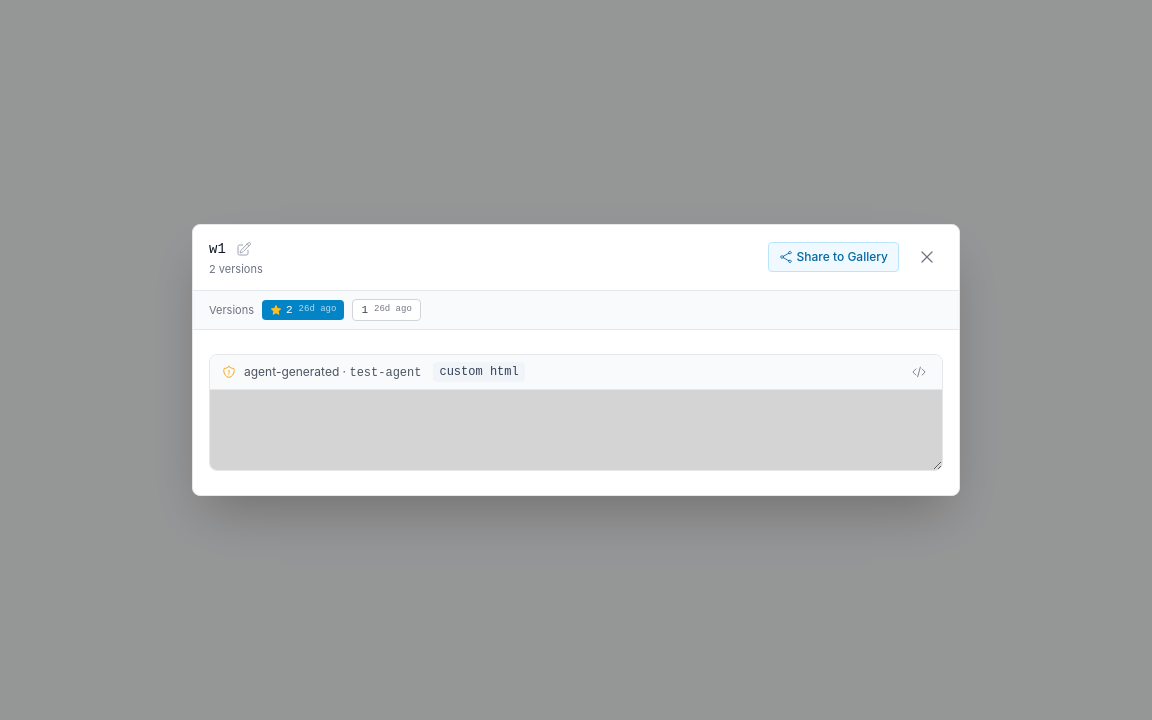
Test: inline rename › Escape cancels the rename without sending a request
This screenshot has width=1152, height=720.
Click the button with test id "widget-rename-btn".
click(244, 249)  # box x1=232 y1=237 x2=256 y2=261
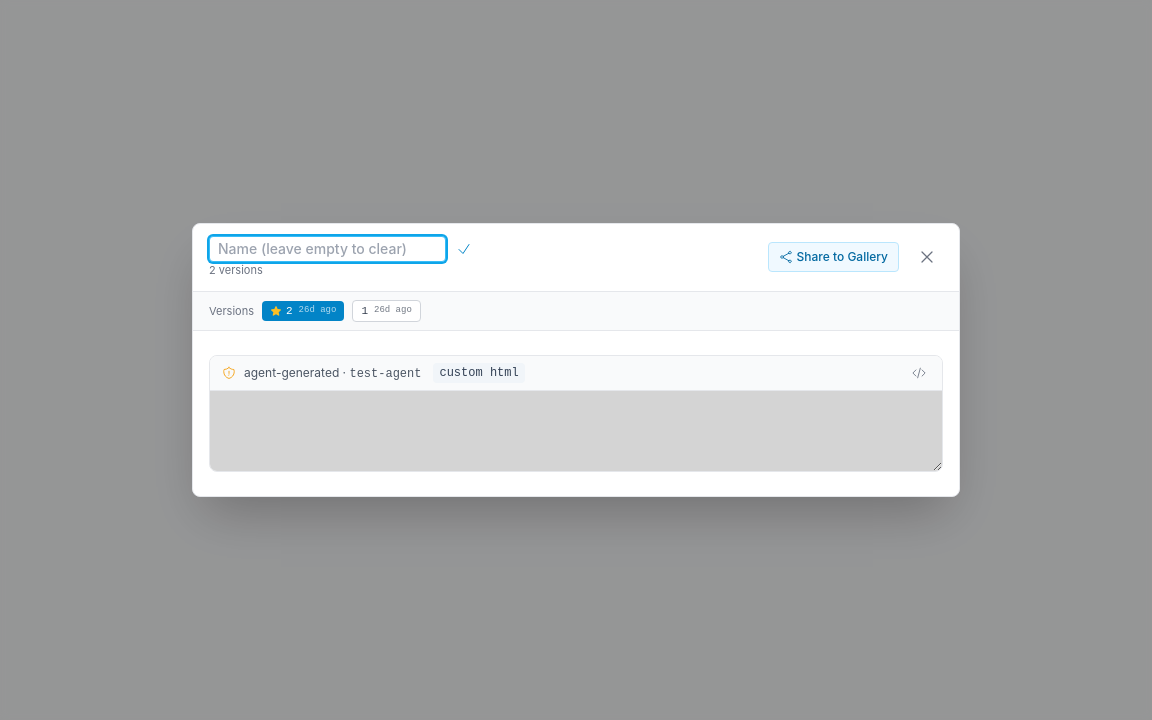
Type "Whatever" into the field with test id "widget-rename-input".
click(328, 249); type("Whatever")  # box x1=209 y1=236 x2=446 y2=262
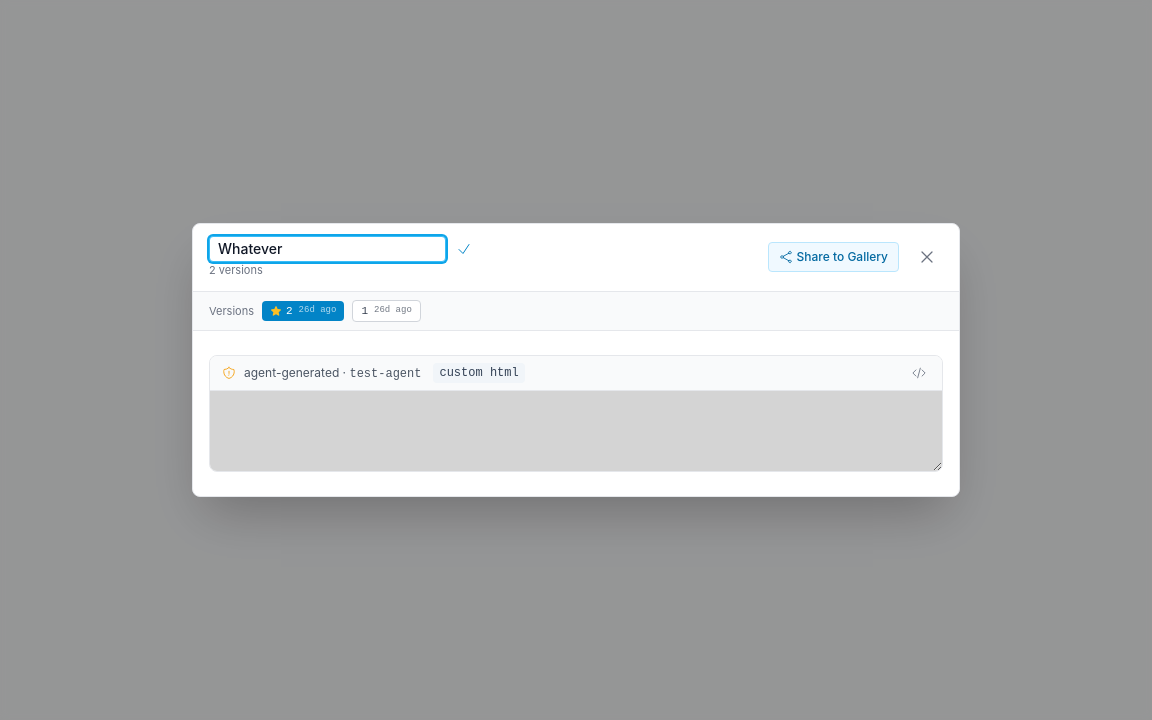
Press Escape in the field with test id "widget-rename-input", box x1=209 y1=236 x2=446 y2=262
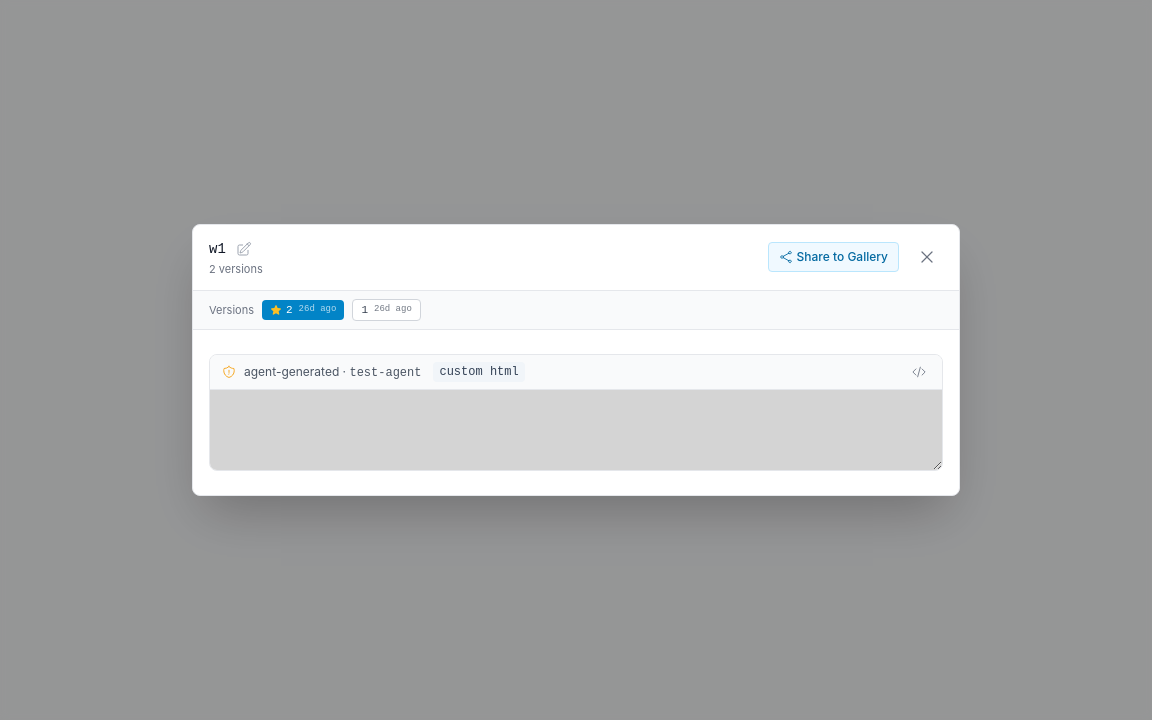
Check: the field with test id "widget-rename-input" is gone
